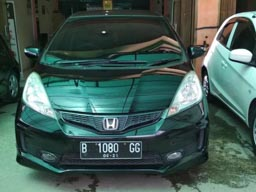plat: (80, 142, 141, 153)
